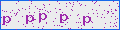p: (83, 16, 91, 26), (60, 14, 68, 23), (26, 15, 34, 24), (3, 16, 11, 25), (39, 13, 46, 22)
